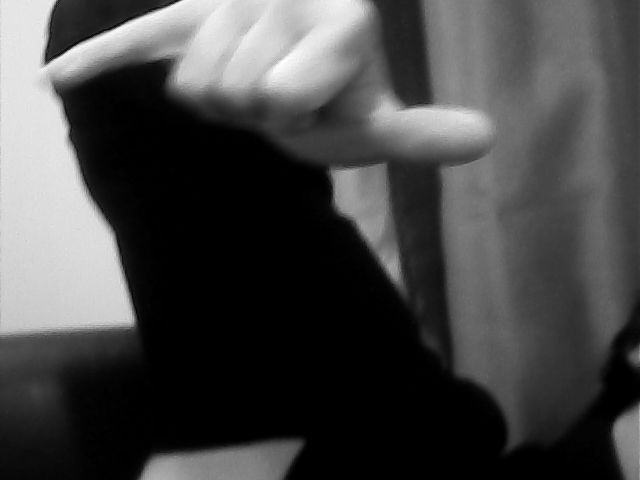aloha: (34, 1, 501, 175)
